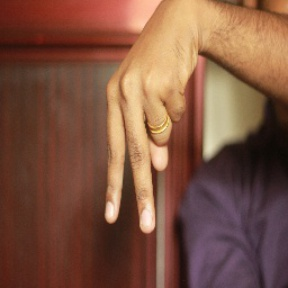Y: (98, 47, 187, 235)
